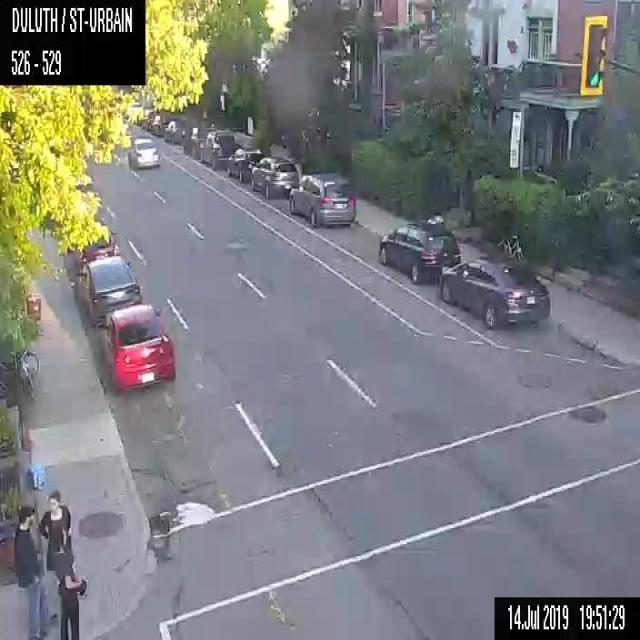pedestrian: (12, 502, 49, 638), (40, 486, 70, 619), (54, 530, 87, 638)
vehicle: (438, 257, 551, 328), (98, 303, 176, 393), (379, 222, 461, 285), (82, 254, 140, 324), (288, 172, 356, 226), (251, 156, 299, 198), (77, 232, 119, 273), (200, 130, 242, 167), (225, 147, 265, 181), (128, 135, 162, 168), (184, 126, 215, 156), (164, 119, 188, 142)
